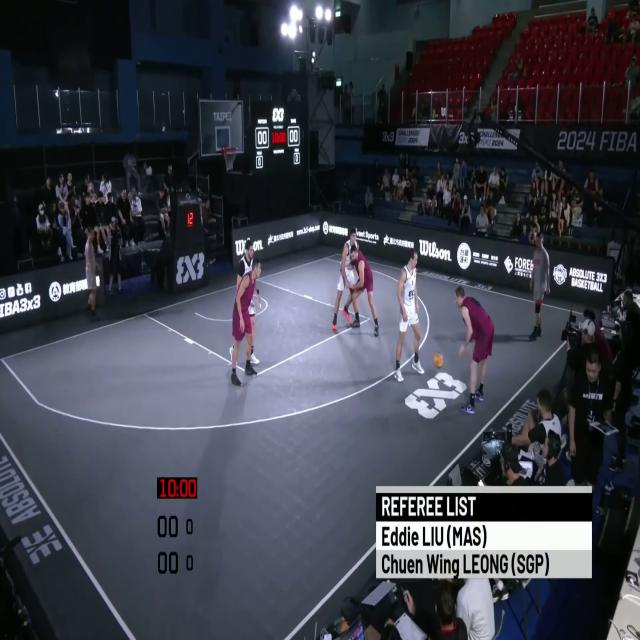ball: (432, 351, 444, 370)
hoop: (222, 144, 238, 173)
player: (455, 282, 494, 414), (228, 259, 263, 389), (394, 250, 421, 384), (236, 238, 264, 365), (330, 224, 358, 337), (348, 247, 380, 339)
